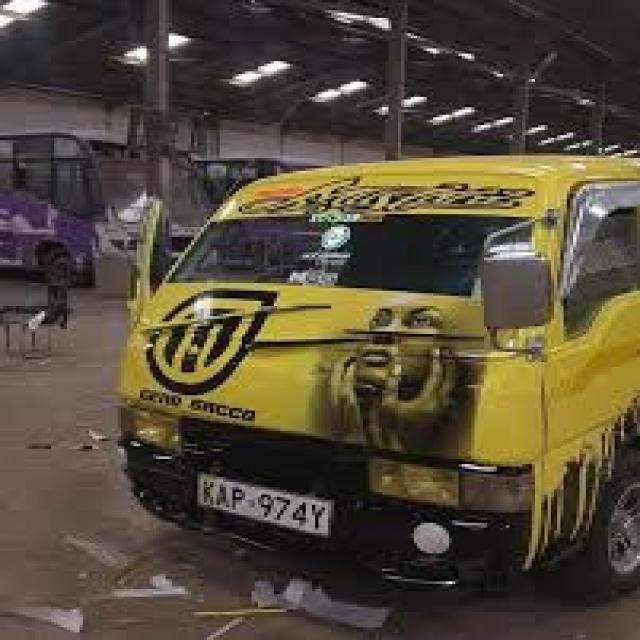matatu: (73, 105, 640, 614)
